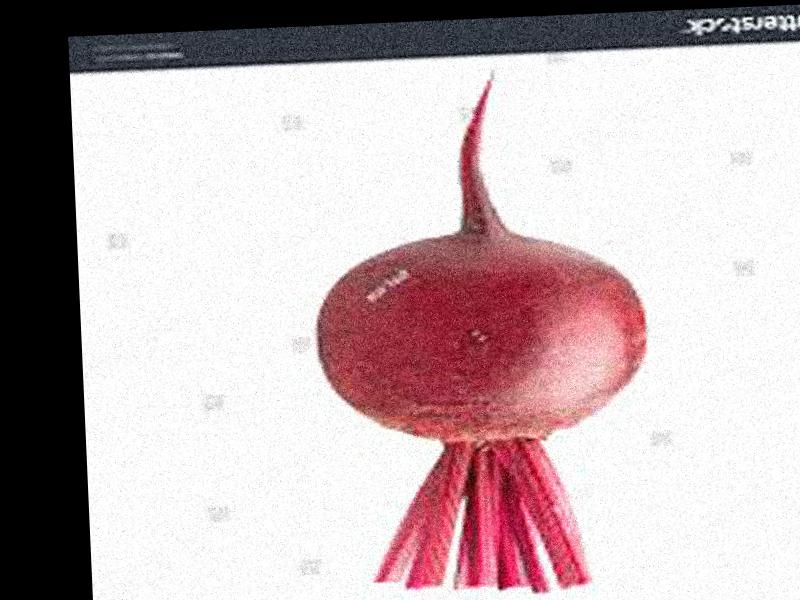Beet: (305, 63, 656, 599)
